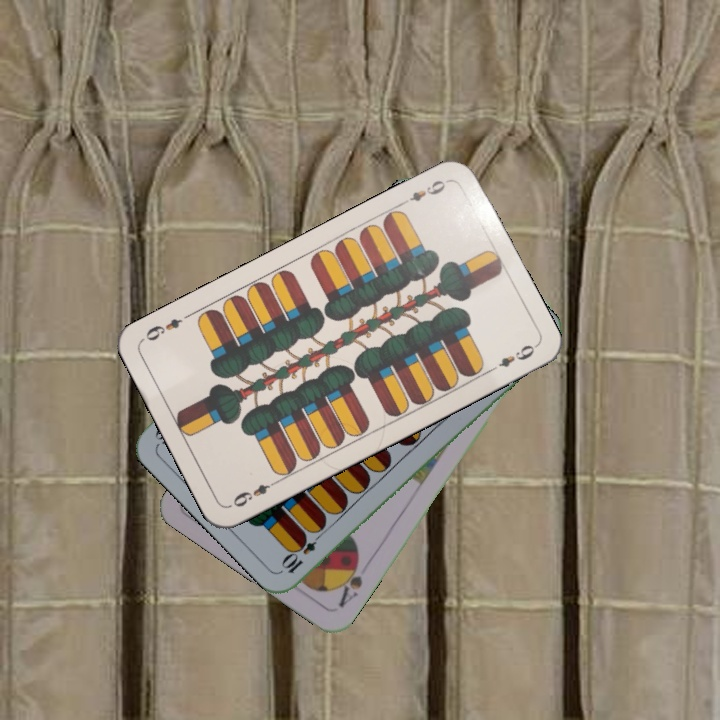E10: (278, 526, 327, 576)
E9: (226, 476, 281, 510), (396, 176, 452, 208)
SA: (333, 553, 365, 611)
